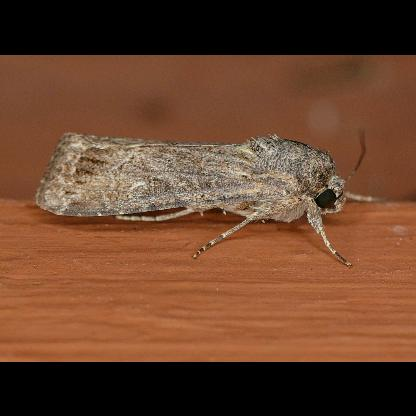Fall Armyworm Moth: (31, 124, 391, 270)
